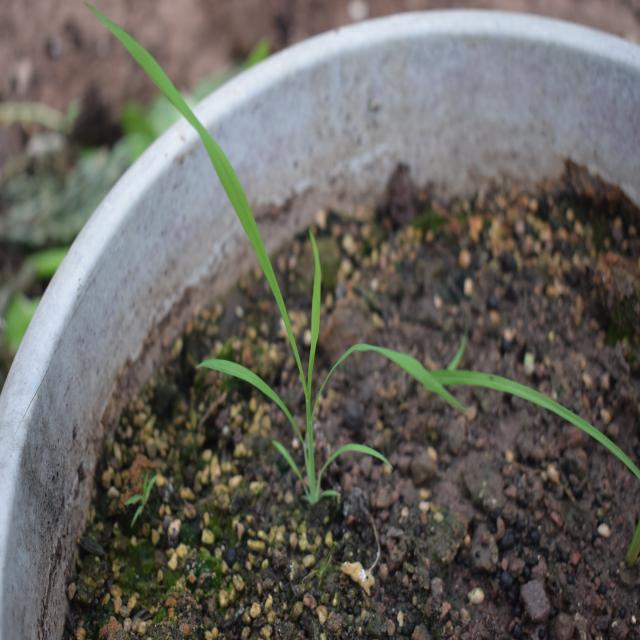barnyard_grass: (119, 12, 432, 509)
